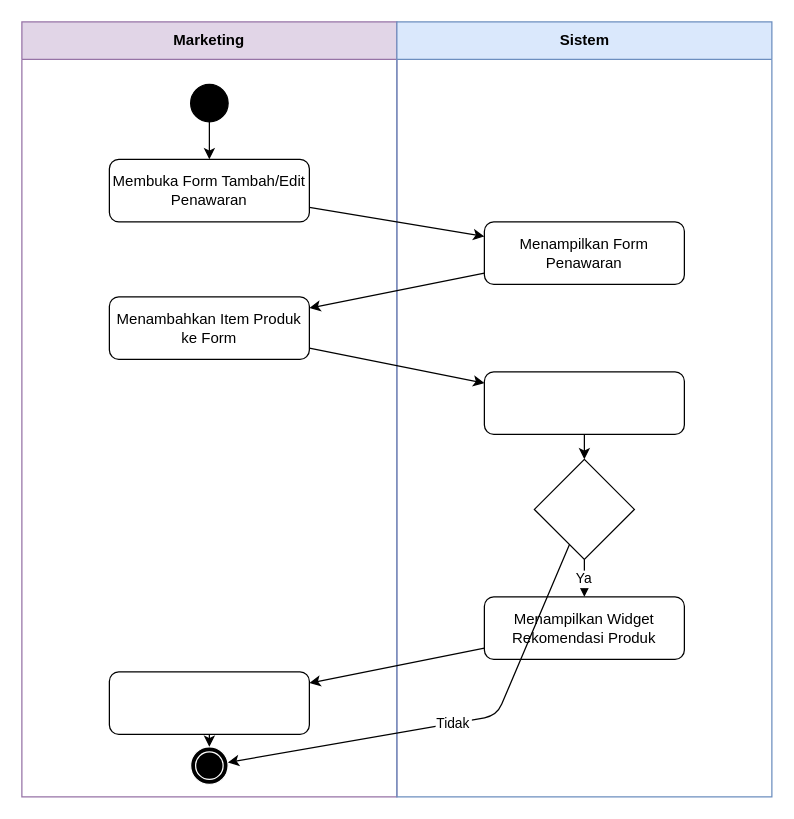
This 794x819 diagram has some shape labels left out. Each missing label, with the centre of its shape:
"Ada Rekomendasi?" goes at point (583, 508).
"Melihat/Memilih Rekomendasi (Opsional)" goes at point (208, 702).
"Mencari Rules Asosiasi (Apriori)" goes at point (583, 402).
